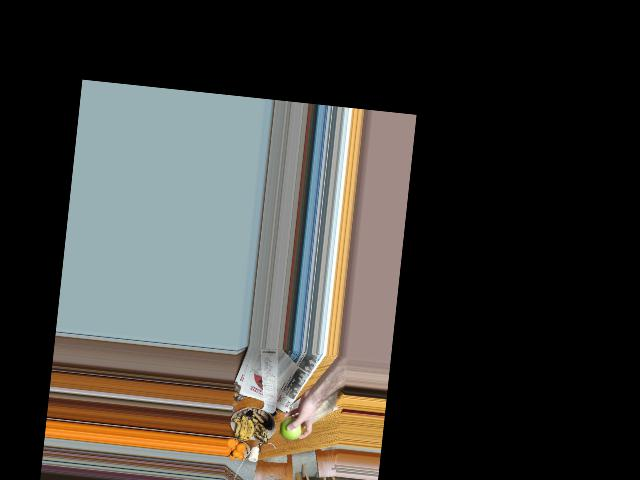apple: (278, 415, 302, 440)
